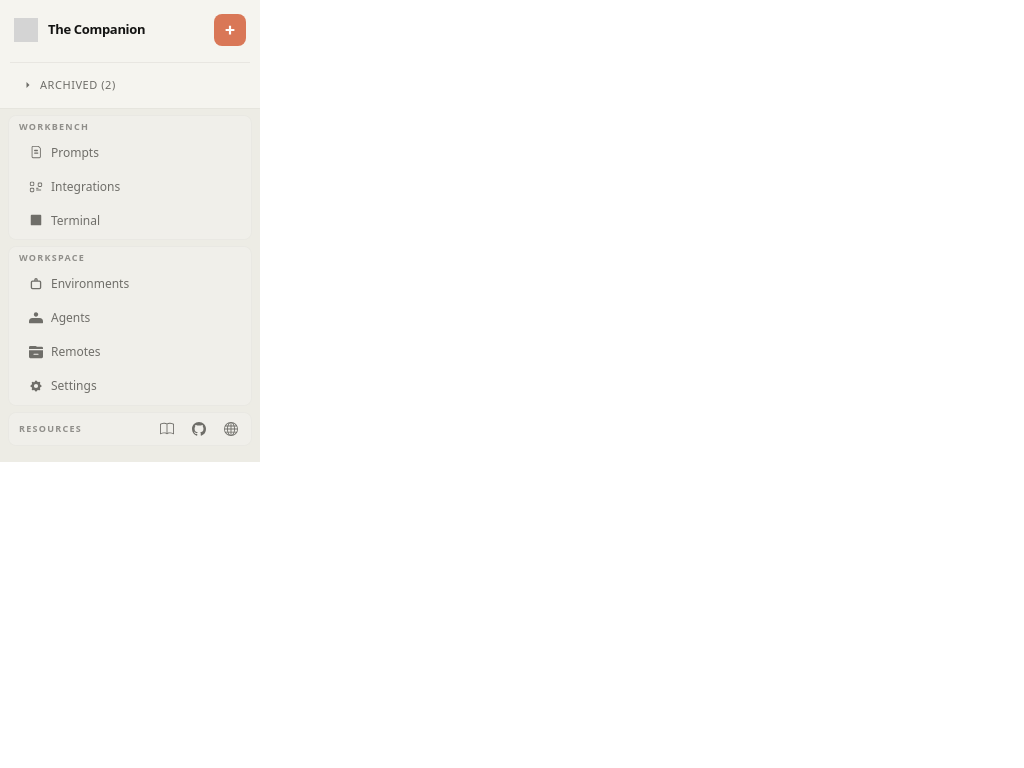
Test case: Sidebar › clicking 'Delete all' shows confirmation modal for all archived sessions
What coordinates should you click on to do the following:
click the button "Archived (2)"
I would click on:
 (130, 85)
Its box is [10,71,250,100].
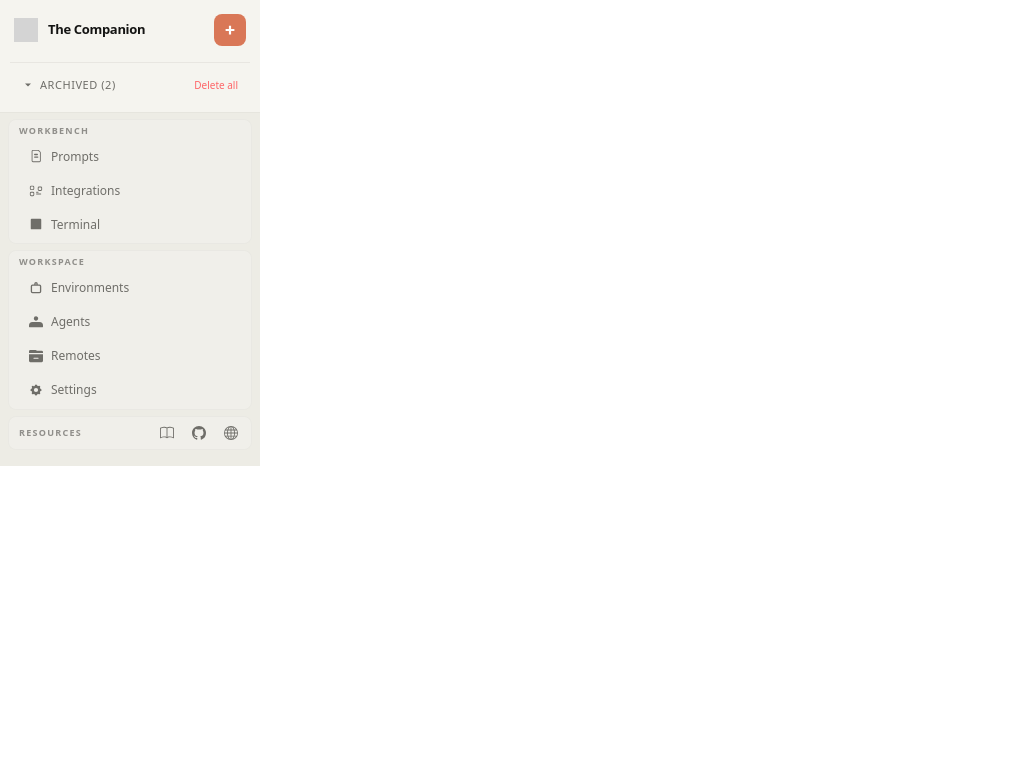
What coordinates should you click on to do the following:
click the button "Delete all"
I would click on:
 (216, 85)
Its box is [186,74,246,97].
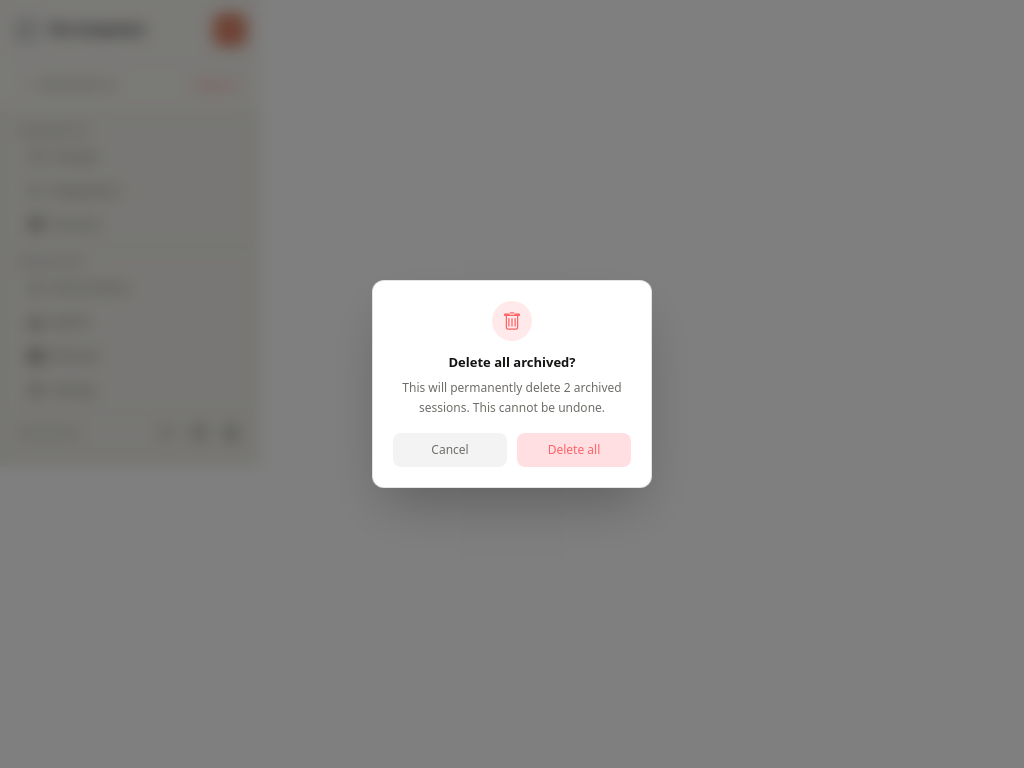
Check: the heading "Delete all archived?" is shown, box [448,353,576,371]
Check: the text "This will permanently delete 2 archived sessions" is shown, box [402,379,622,416]
